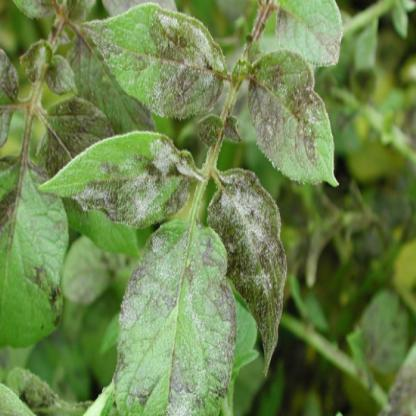potato leaf late blight: (42, 128, 290, 413), (73, 1, 228, 128), (244, 46, 340, 193)
